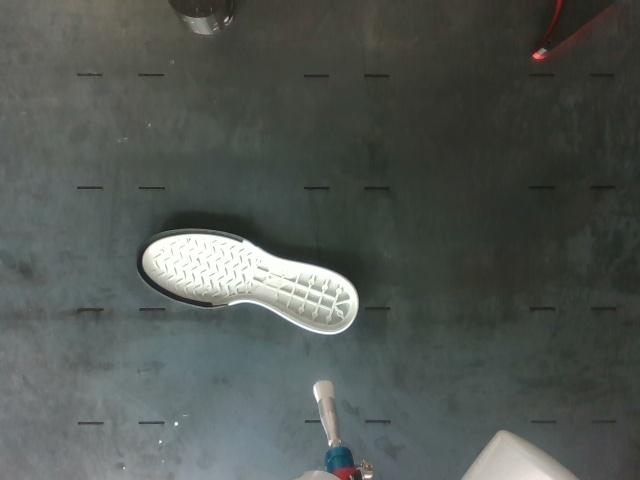shoes: (136, 228, 358, 333)
